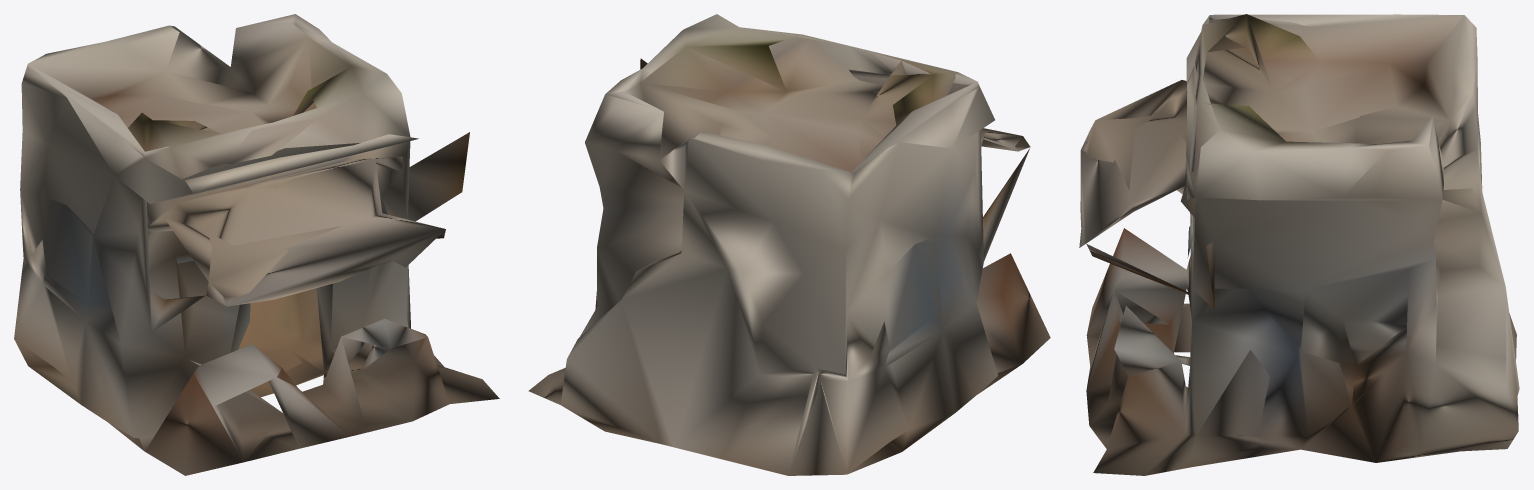
The model's file is biz_cafe_t1.trellis.glb.
The picture shows the model from 3 angles, left to right: view 1: azimuth 30°, elevation 25°; view 2: azimuth 150°, elevation 25°; view 3: azimuth 270°, elevation 25°; orthographic projection. The views are drawn at different scales.
Parts seen in each view (by area): view 1: geometry_0; view 2: geometry_0; view 3: geometry_0.
Boxes of the visible parts, x1,y1,x2,y2 form: geometry_0: (14, 14, 499, 475); geometry_0: (528, 14, 1050, 475); geometry_0: (1079, 14, 1519, 475).
Size of the model in its own units: 5.59 by 4.54 by 5.75.
